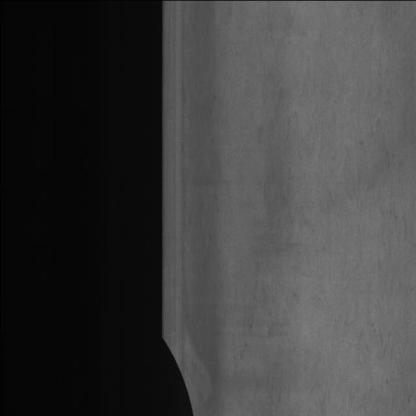crescent_gap: (160, 320, 201, 416)
